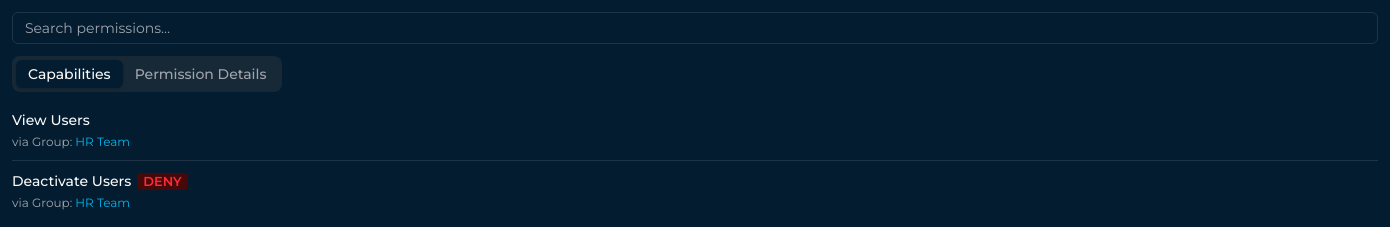
EffectivePermissionsPanel › search › filters permissions by id
This screenshot has width=1390, height=227.
Type "od.admin.users.deactivate" into the search field labelled "Search permissions…".
click(695, 28); type("od.admin.users.deactivate")  # box [12,12,1378,44]
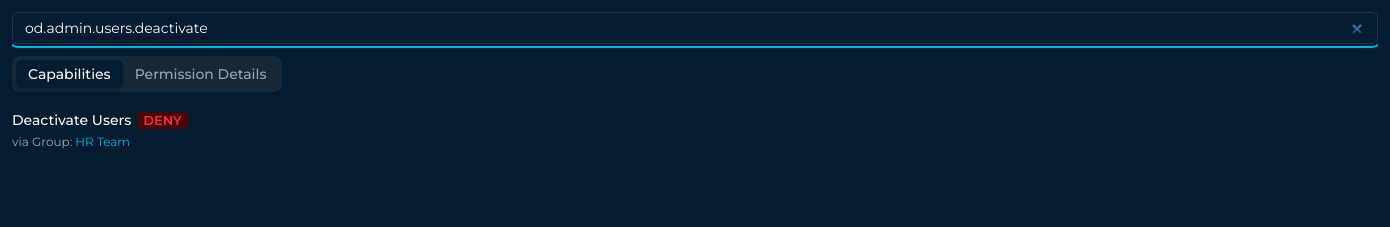
Expected: the text "Deactivate Users" is shown, [12,110,131,130]
Result: the text "View Users" is gone
